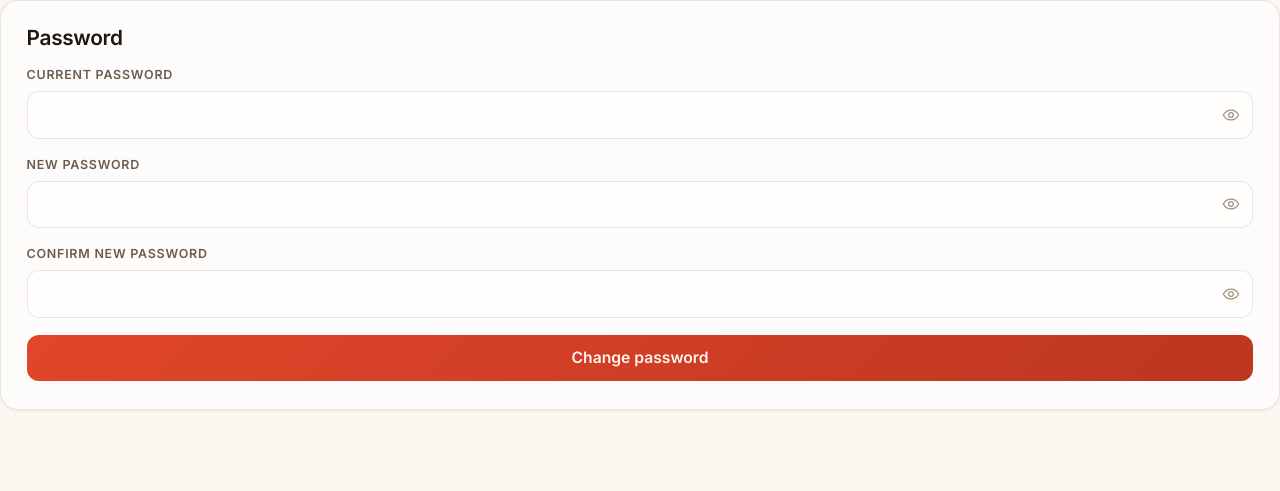
Scenario: SecurityPanel › clears the fields and confirms once the change lands
Step 1. Type "oldpassword1" into the password field labelled "Current password" → (640, 115), box [27,91,1253,139]
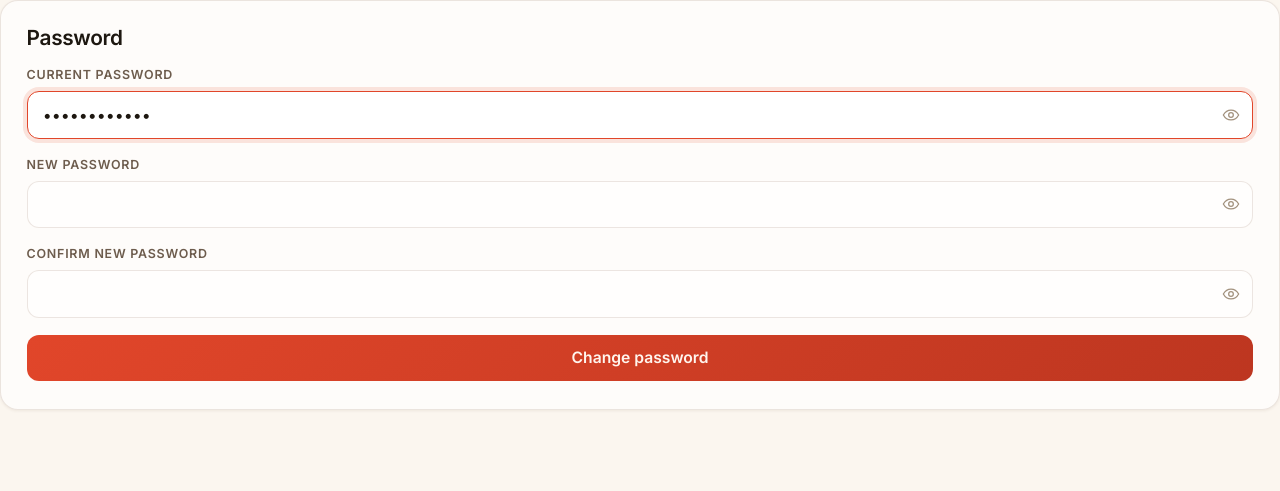
Step 2. Type "newpassword1" into the password field labelled "New password" → (640, 204), box [27,181,1253,228]
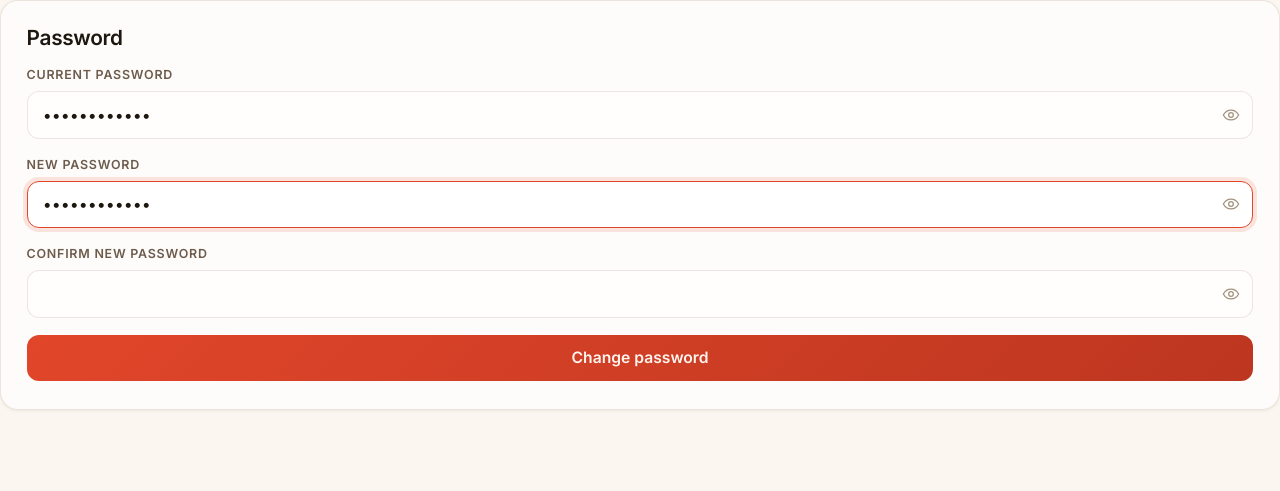
Step 3. Type "newpassword1" into the password field labelled "Confirm new password" → (640, 294), box [27,270,1253,318]
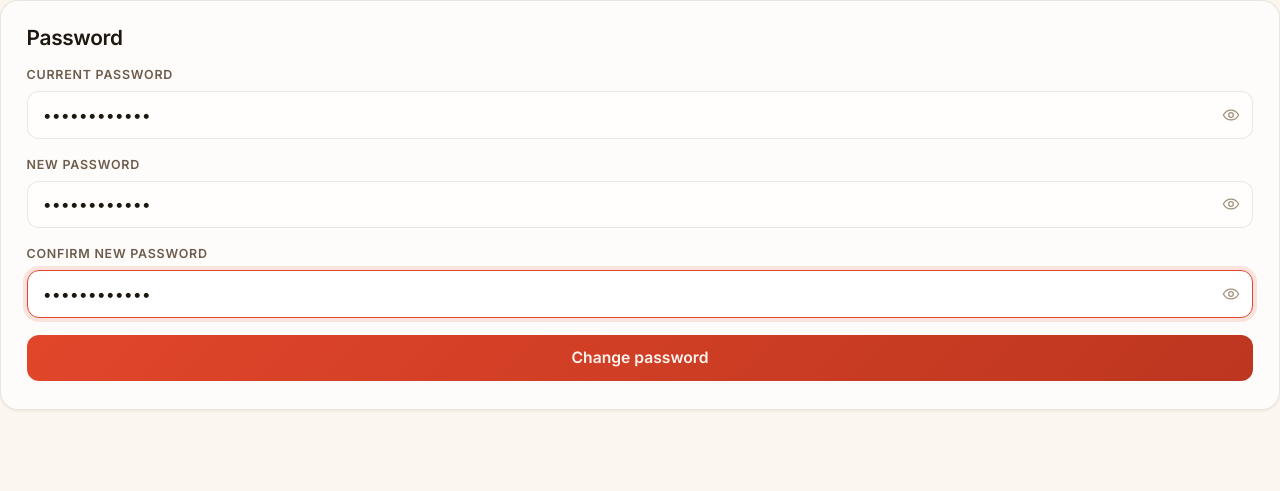
Step 4. Click the button "Change password" → click(640, 358), box [27,334,1253,381]
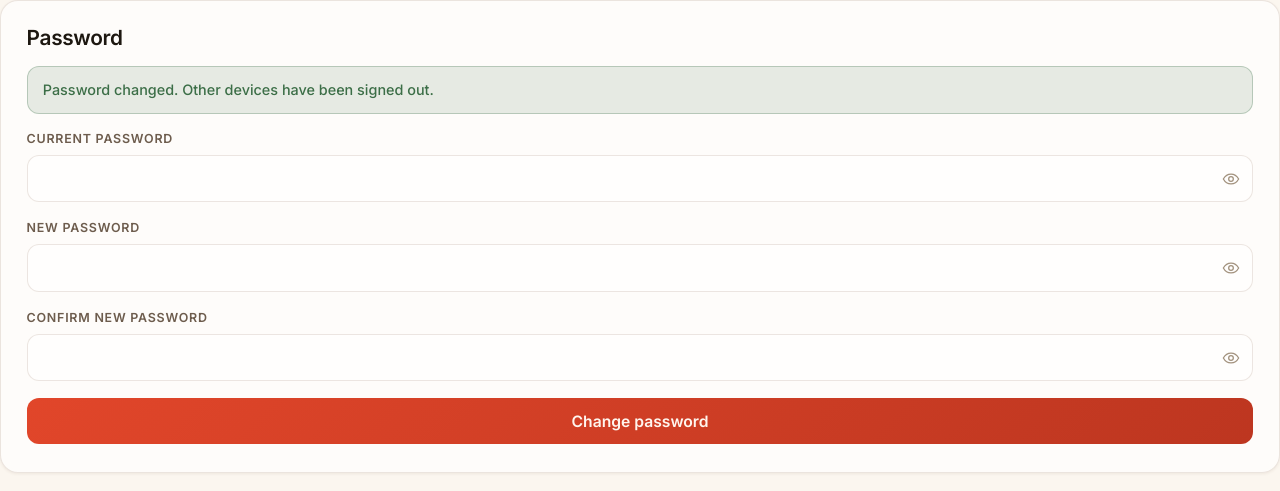
Expected: the text "Password changed. Other devices have been signed out." is shown, [27,66,1253,114]
Expected: the password field labelled "Current password" is empty, [27,155,1253,202]
